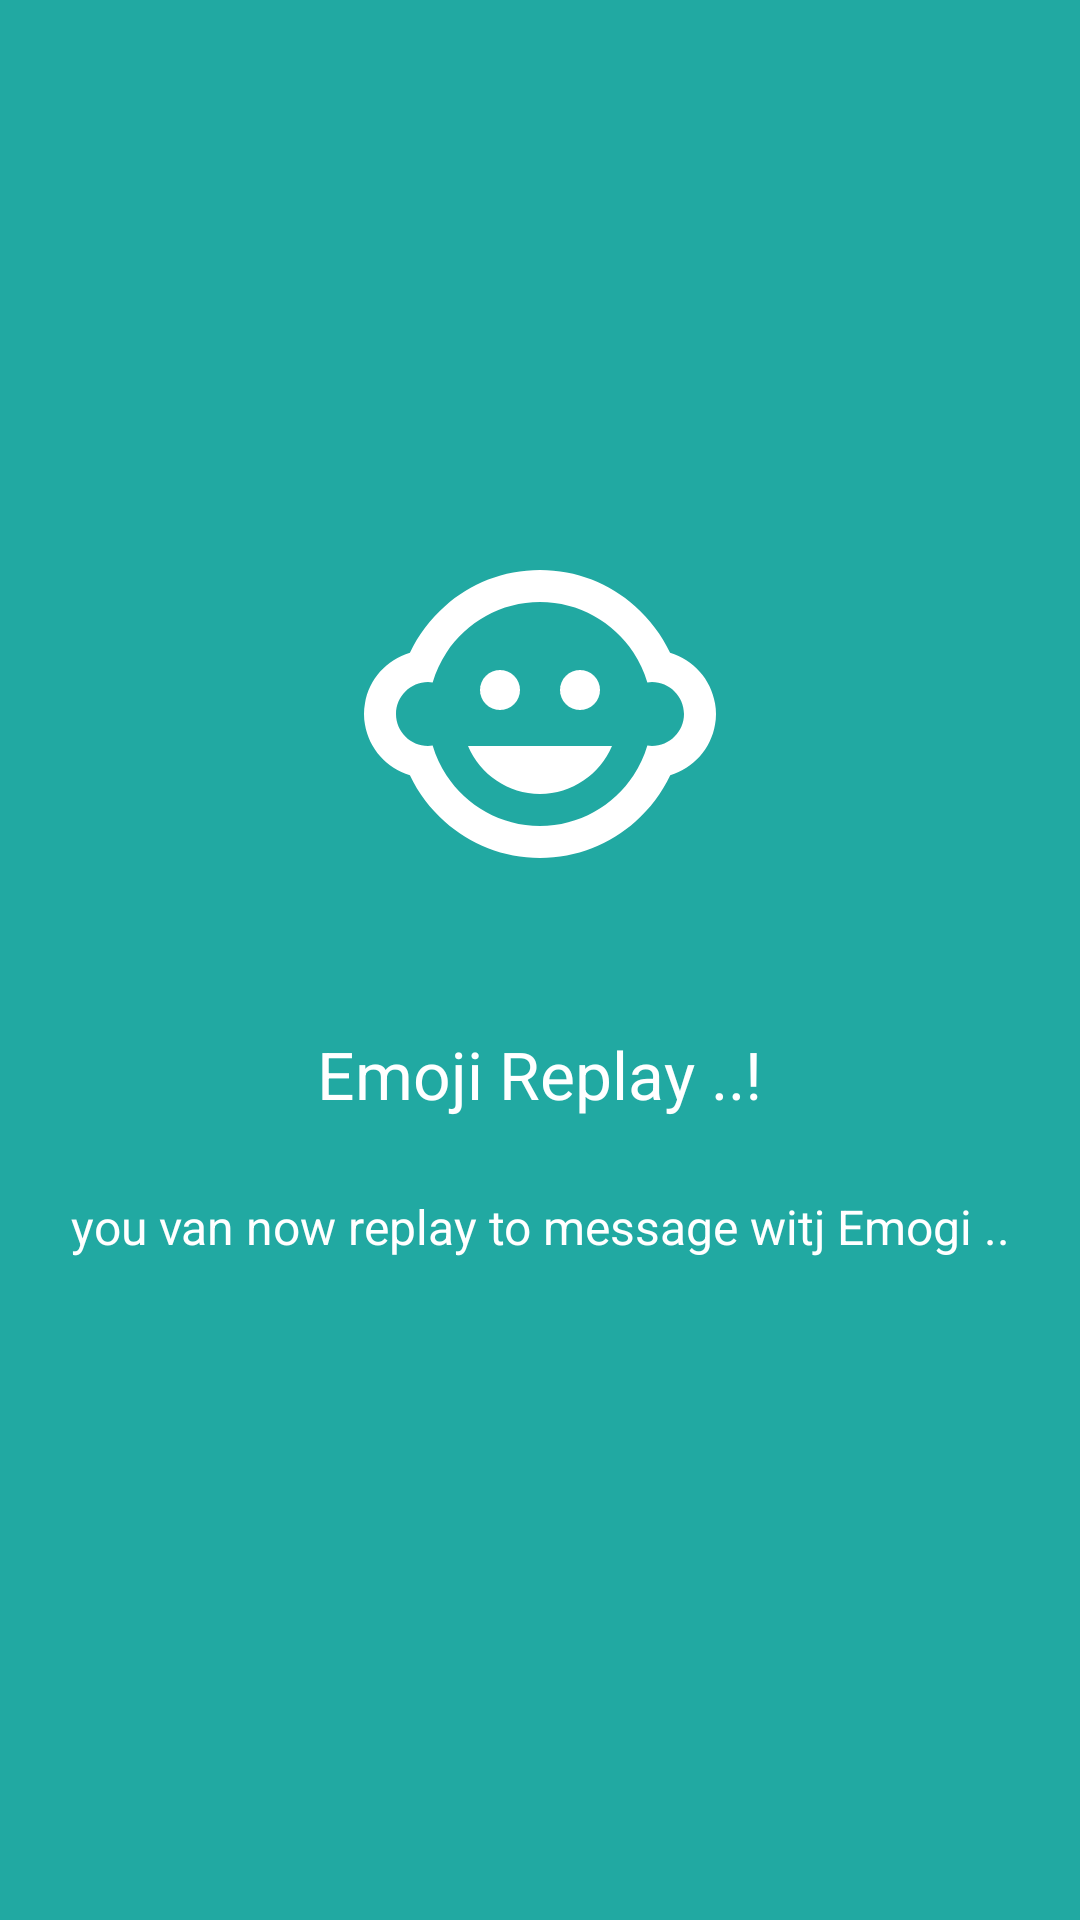

Point at icon controls on the screen. Image size 1080 x 1920, points as point (x, y).
child care: point (540, 714)
